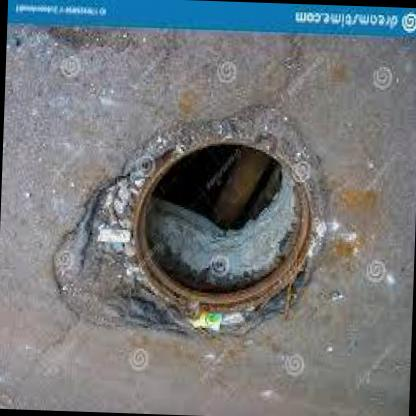manholes: (96, 117, 347, 340)
